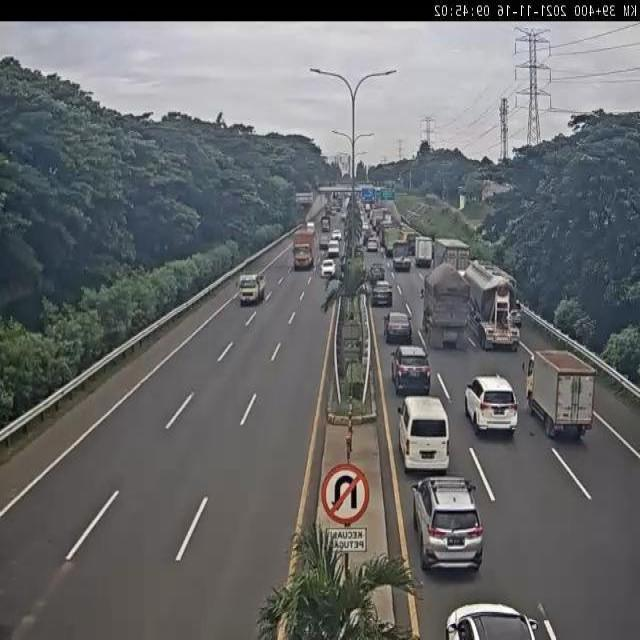Car: (412, 475, 484, 571), (445, 602, 541, 640), (462, 375, 520, 435), (390, 344, 432, 393), (384, 311, 412, 343), (371, 280, 393, 307), (510, 298, 524, 327), (368, 262, 386, 282), (319, 258, 336, 278), (328, 240, 340, 258), (318, 234, 329, 250), (366, 238, 378, 252), (331, 228, 342, 240)
Truck: (456, 257, 522, 354), (527, 348, 595, 439), (420, 262, 471, 348), (433, 237, 472, 273), (236, 270, 266, 306), (291, 229, 317, 269), (414, 236, 434, 269), (392, 240, 412, 270), (384, 226, 402, 257), (406, 231, 420, 253), (320, 216, 330, 233)
Van: (396, 394, 452, 474)
